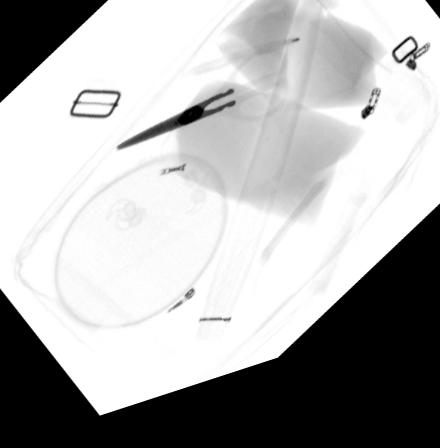Scissors: (116, 61, 293, 157)
